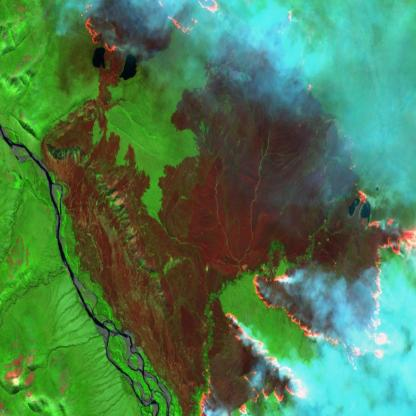fire: (195, 184, 416, 416), (80, 0, 225, 58)
